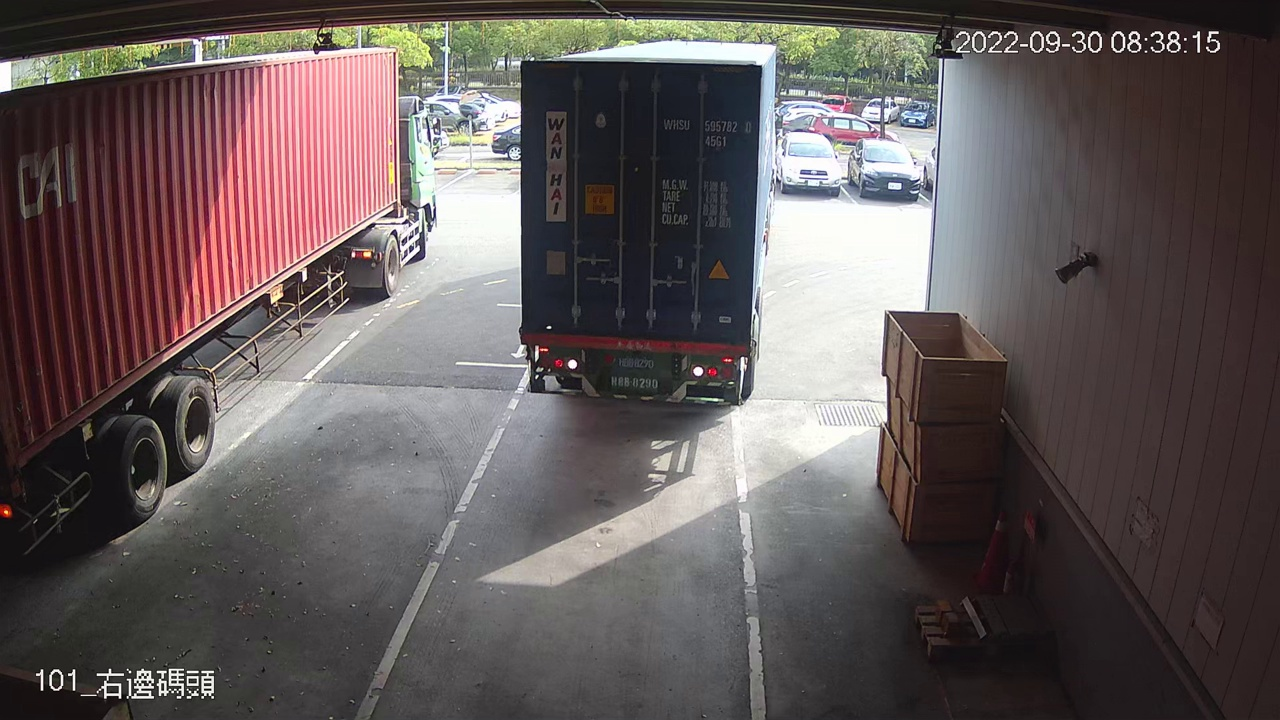container: (660, 110, 756, 153)
